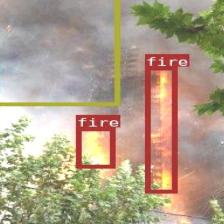fire: (144, 66, 176, 192), (75, 127, 115, 168)
smoke: (0, 0, 118, 105)
